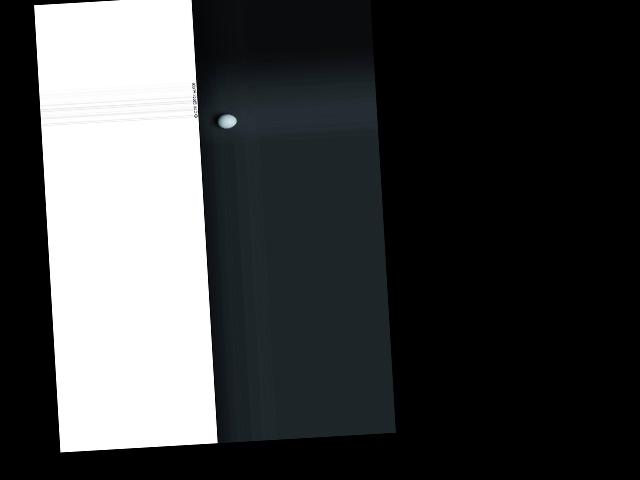egg: (216, 113, 237, 129)
